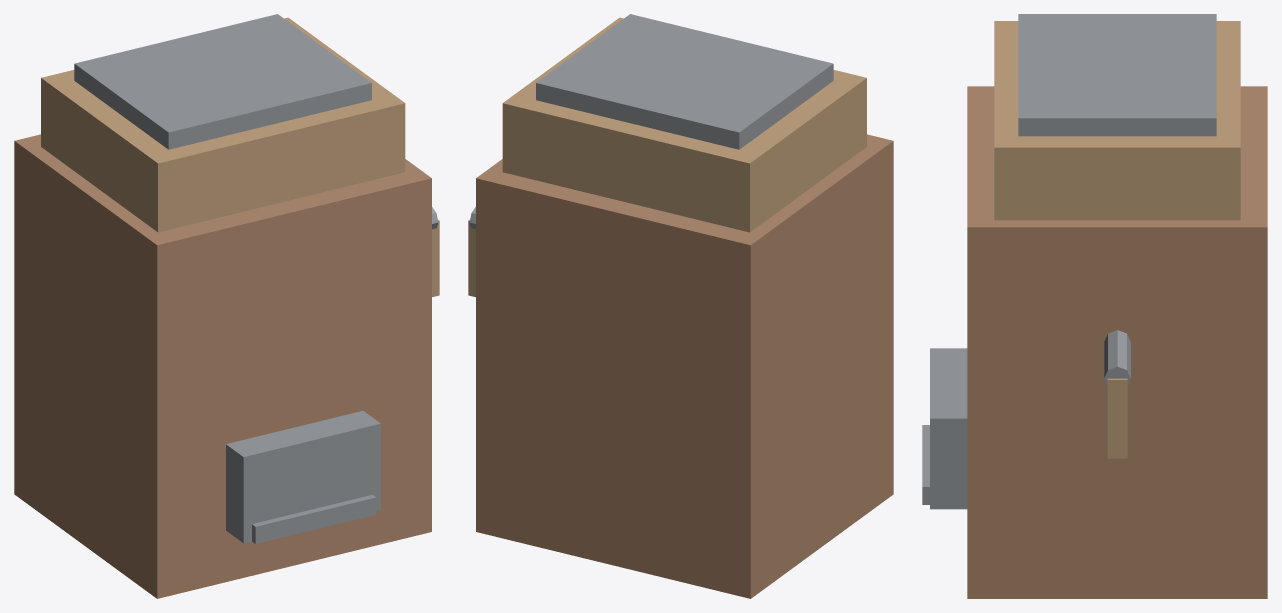
Rendered from recycler.glb.
The picture shows the model from 3 angles, left to right: view 1: azimuth 30°, elevation 25°; view 2: azimuth 150°, elevation 25°; view 3: azimuth 270°, elevation 25°; orthographic projection. The views are drawn at different scales.
Parts seen in each view (by area): view 1: recycler; view 2: recycler; view 3: recycler.
Boxes of the visible parts, box(x1,y1,x2,y2) form: recycler: box(14, 14, 439, 598); recycler: box(468, 14, 893, 598); recycler: box(922, 14, 1267, 598).
Size of the model in its own units: 1.27 by 1.53 by 1.04.
